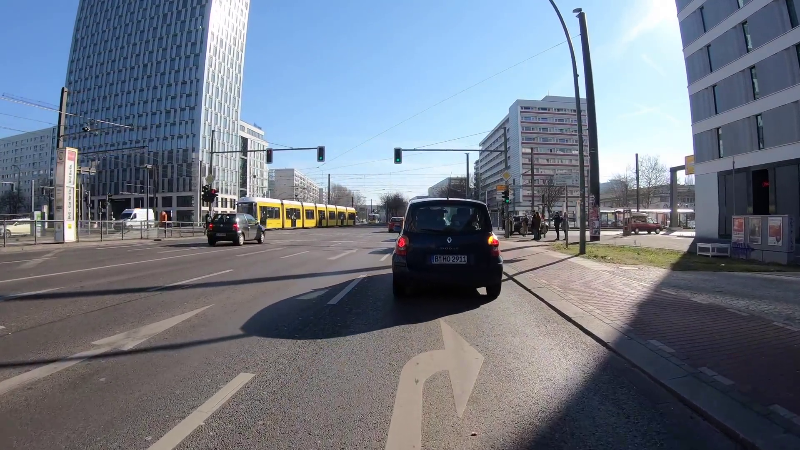Plate: (426, 253, 469, 266)
